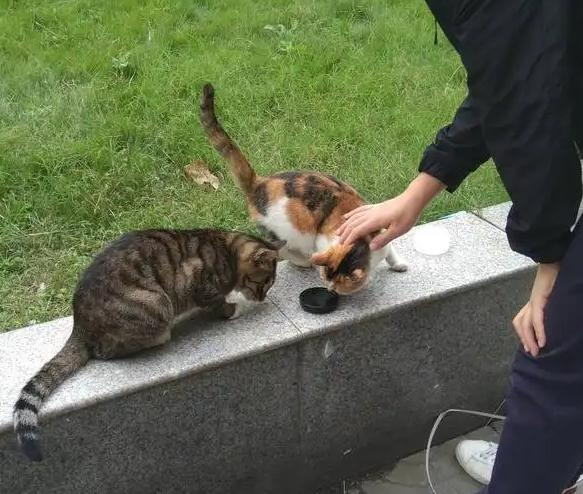cat: (13, 228, 286, 461), (197, 84, 410, 295)
